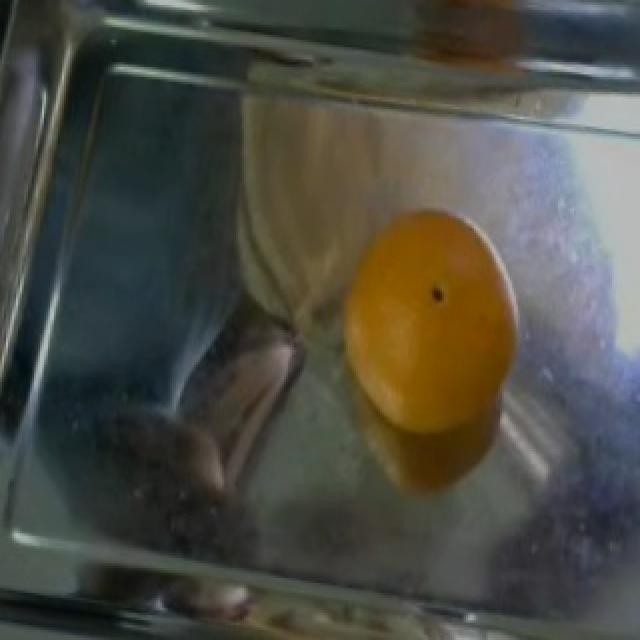Fruit: (322, 196, 534, 566)
